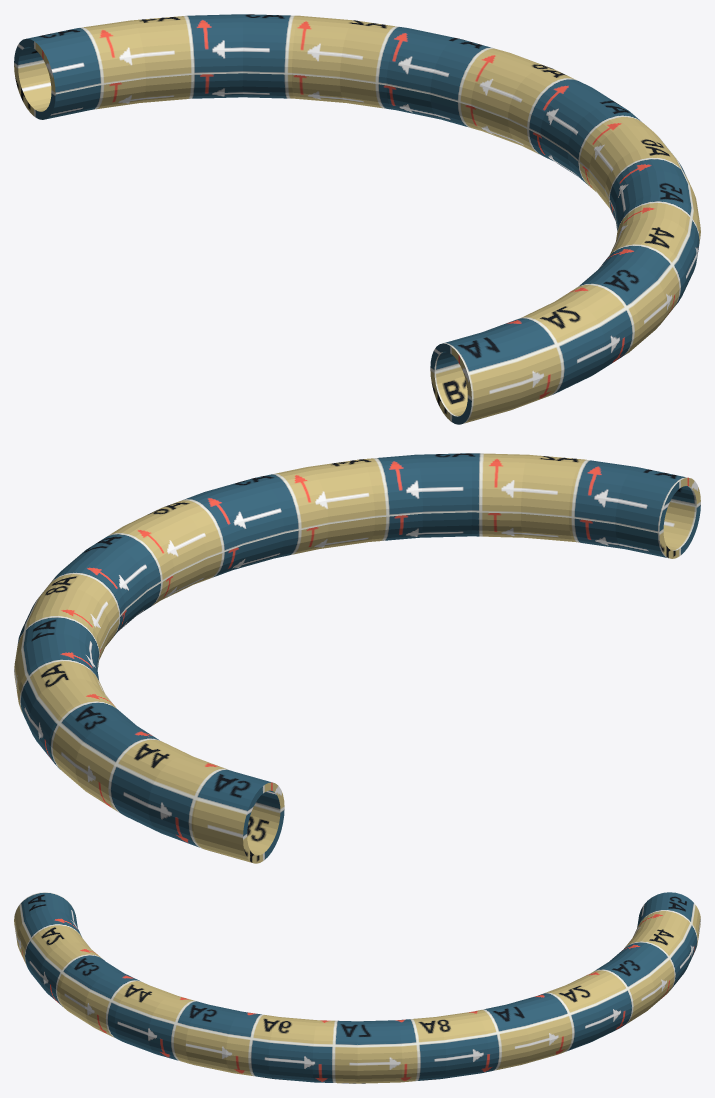
Rendered from PIPE_Ubend.fbx.
3 renders of one model, top to bottom at view 1: azimuth 30°, elevation 25°; view 2: azimuth 150°, elevation 25°; view 3: azimuth 270°, elevation 25°, orthographic. The views are drawn at different scales.
Parts seen in each view (by area): view 1: PIPE_Ubend; view 2: PIPE_Ubend; view 3: PIPE_Ubend.
Part boxes in pixels (x1,y1,x2,y2): PIPE_Ubend: (14,14,700,424); PIPE_Ubend: (14,453,700,863); PIPE_Ubend: (14,892,700,1083).
Size of the model in its own units: 110 by 20 by 220.
1 material, 1 textured.
